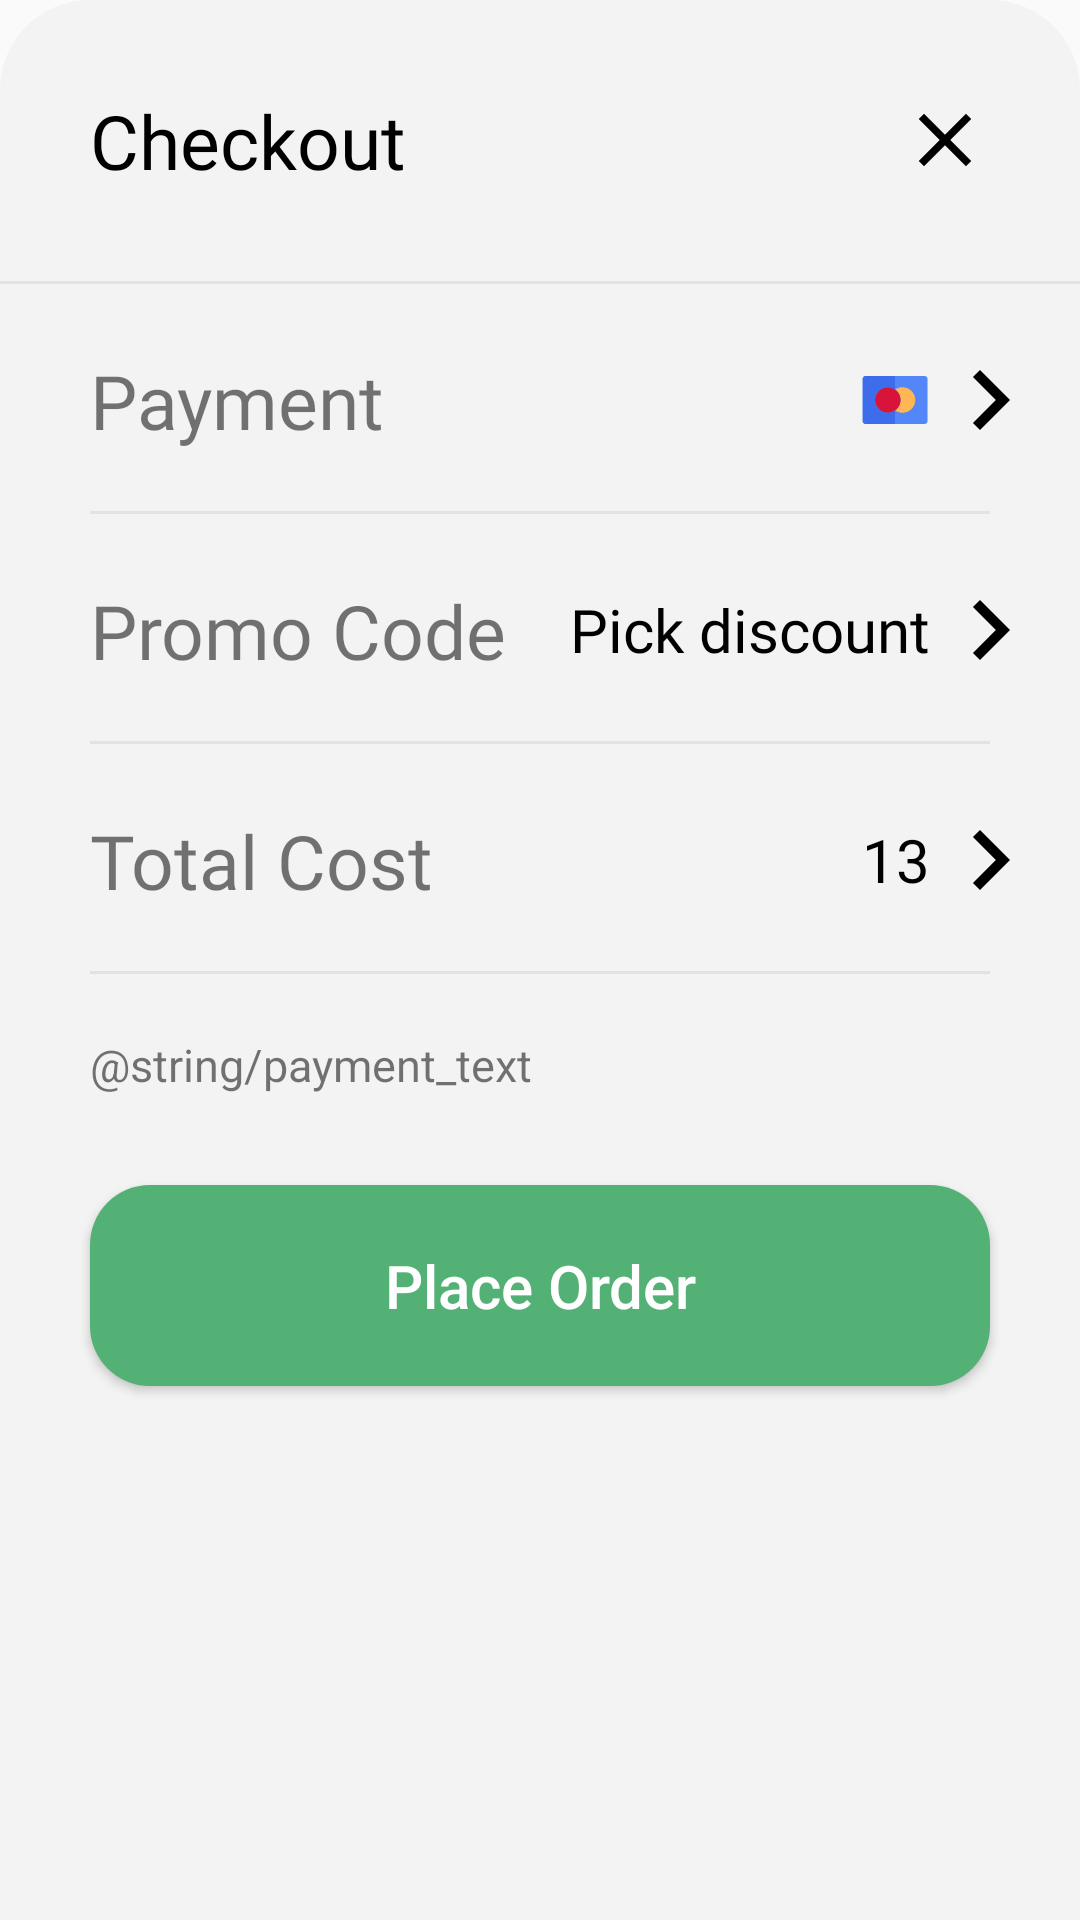

Where to tap for icons on this 1080w x 1920h app screen, as (x=x, y=y):
close: (x=945, y=140)
